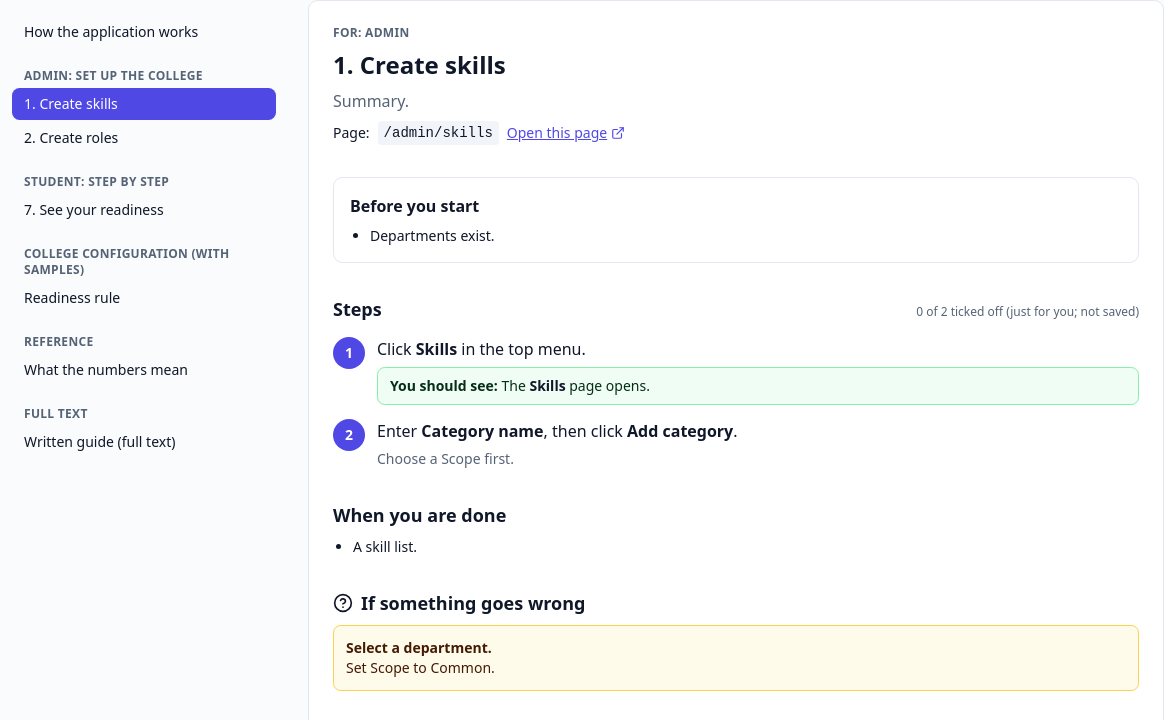
GuidePage (left sidebar, step-by-step) › lets the reader tick steps off
This screenshot has width=1164, height=720.
Expected: the heading "1. Create skills" is shown, [333,48,506,81]
Expected: the text "0 of 2 ticked off (just for you; not saved)" is shown, [916,304,1139,320]
Click the button named "Mark step 1 done": [349, 353] box [333,337,365,369]
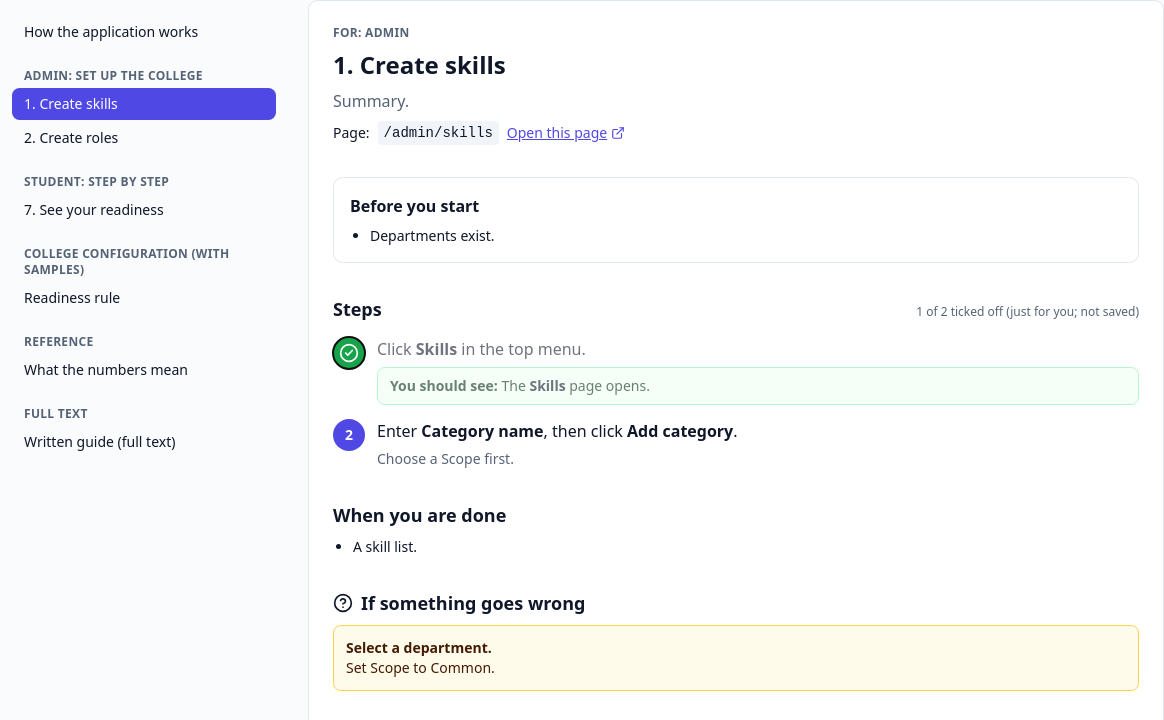
Expected: the text "1 of 2 ticked off (just for you; not saved)" is shown, [916,304,1139,320]
